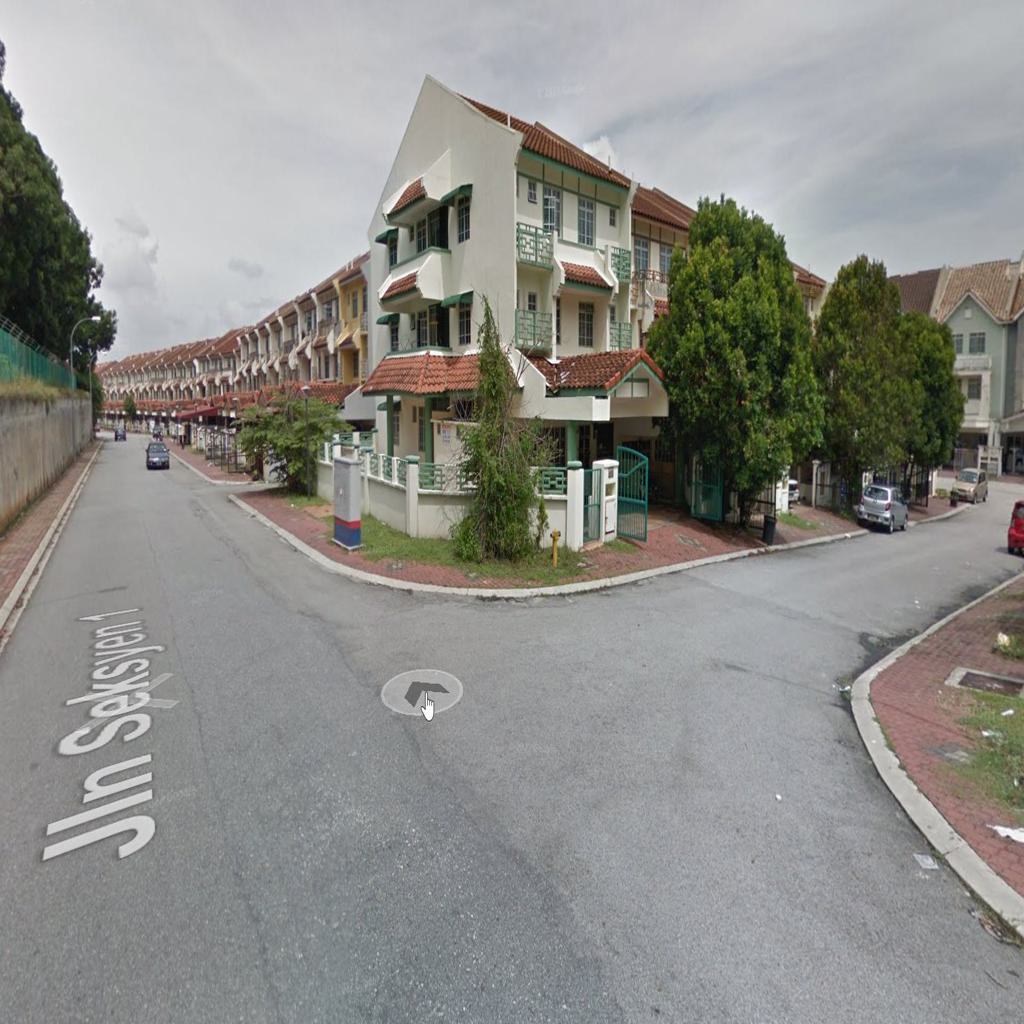Junction: (412, 532, 1007, 845)
